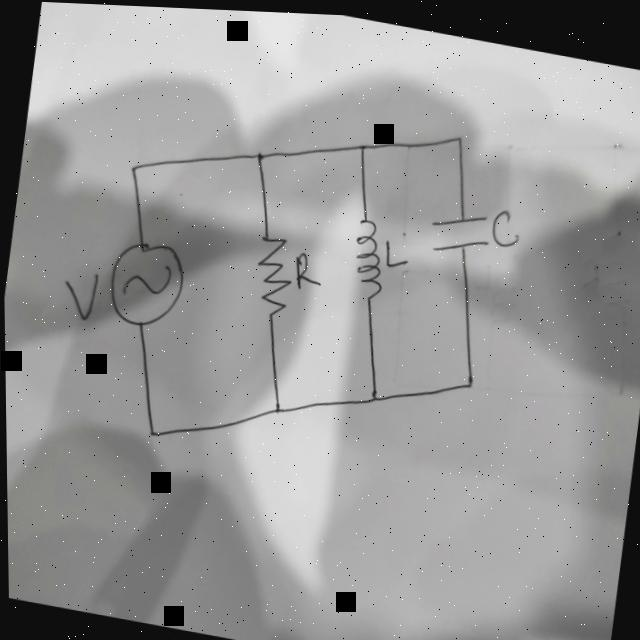capacitor: (425, 201, 492, 258)
inductor: (345, 212, 391, 299)
junction: (263, 392, 288, 423), (365, 383, 382, 404), (462, 368, 476, 387), (251, 147, 267, 162), (144, 423, 158, 440), (356, 135, 370, 151), (128, 160, 141, 177), (452, 128, 465, 143)
resistor: (248, 229, 298, 318)
source: (100, 231, 189, 332)
text: (57, 263, 102, 324), (290, 246, 325, 291), (488, 202, 523, 246), (381, 234, 411, 268)
